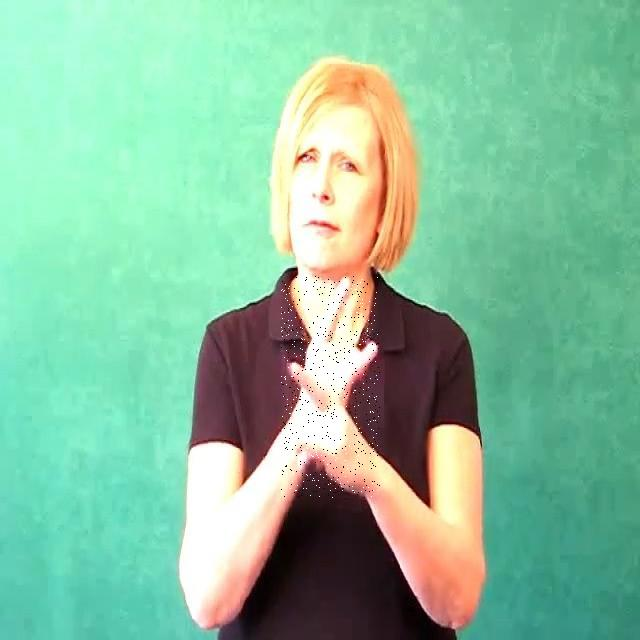alcohol: (281, 276, 380, 498)
